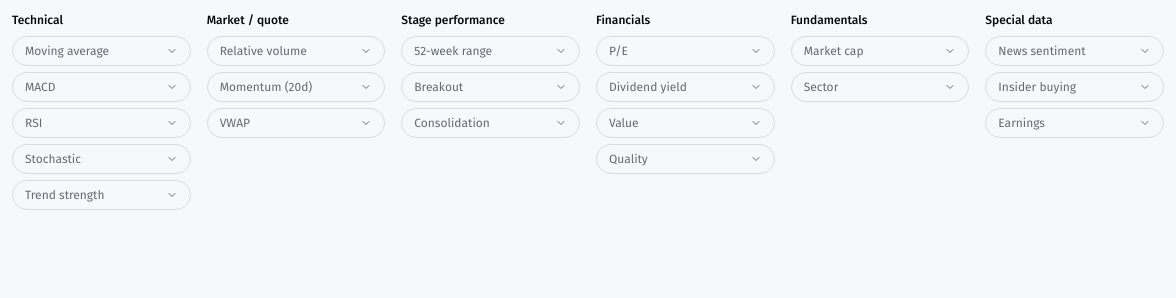
Test case: ConditionBuilder › flags that the count excludes fundamentals when both are selected
Click the button with test id "condition-pill-RSI" at (101, 123), box 12,108 -> 191,138
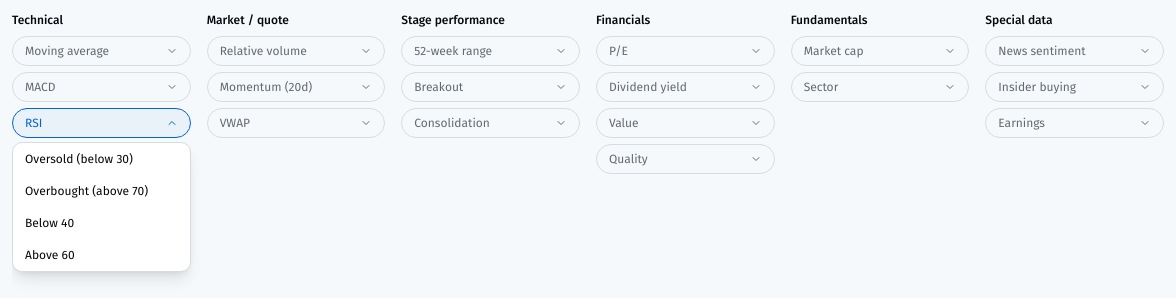
Click the button "Oversold (below 30)" at (101, 159), box 13,143 -> 190,175
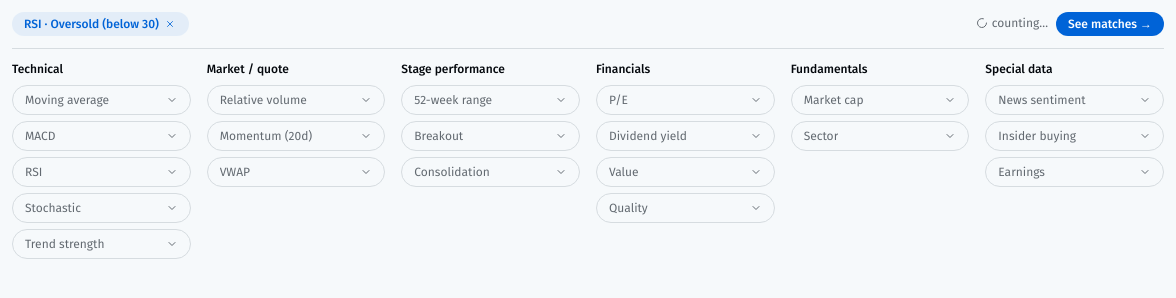
Click the button "Market cap" at (880, 100), box 791,85 -> 969,115
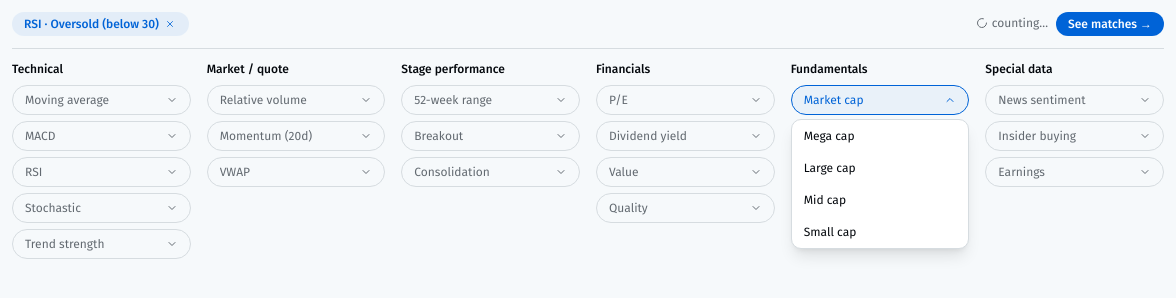
Click the button "Small cap" at (880, 232), box 792,216 -> 968,248
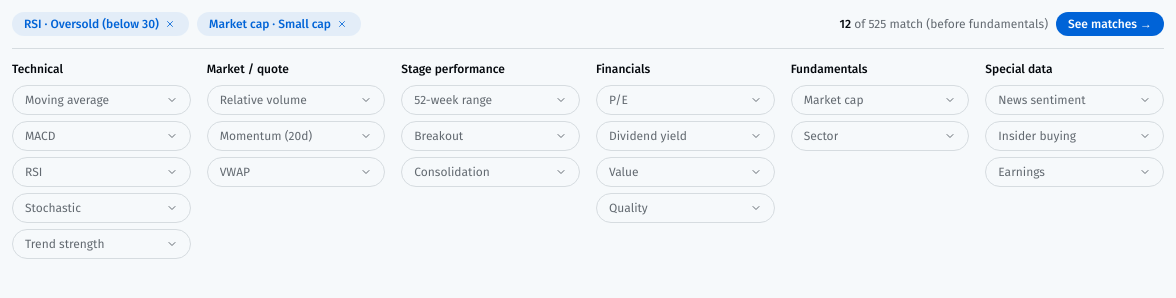
Expected: the element with test id "condition-count" shows "before fundamentals", 923,17 -> 1048,31
